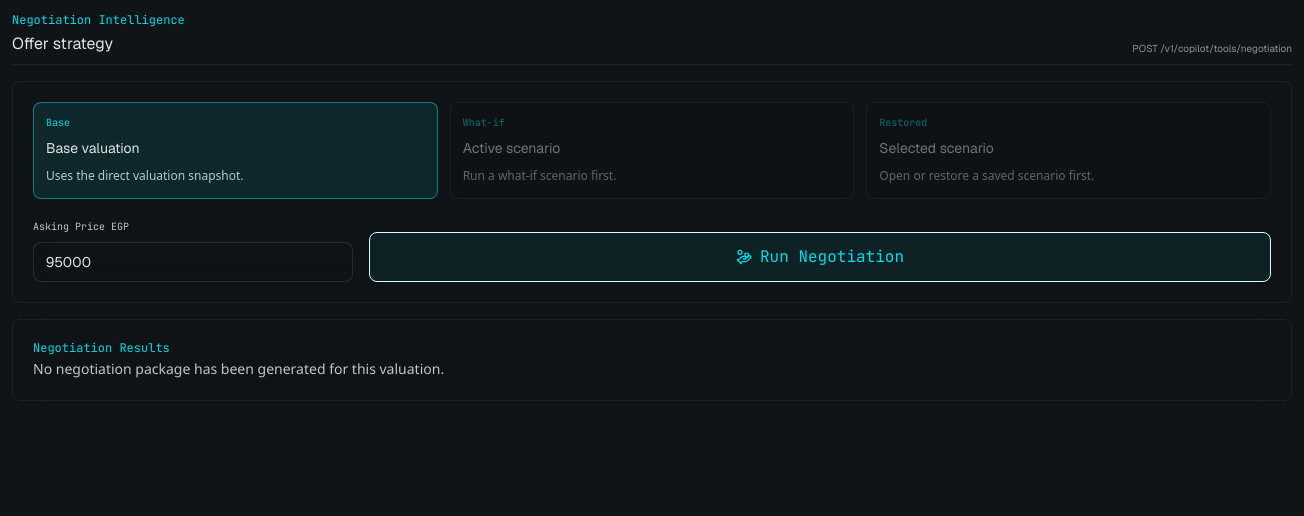
Test case: NegotiationIntelligencePanel › renders service errors
Click the button "Run Negotiation".
click(820, 257)  # box [369,232,1271,282]
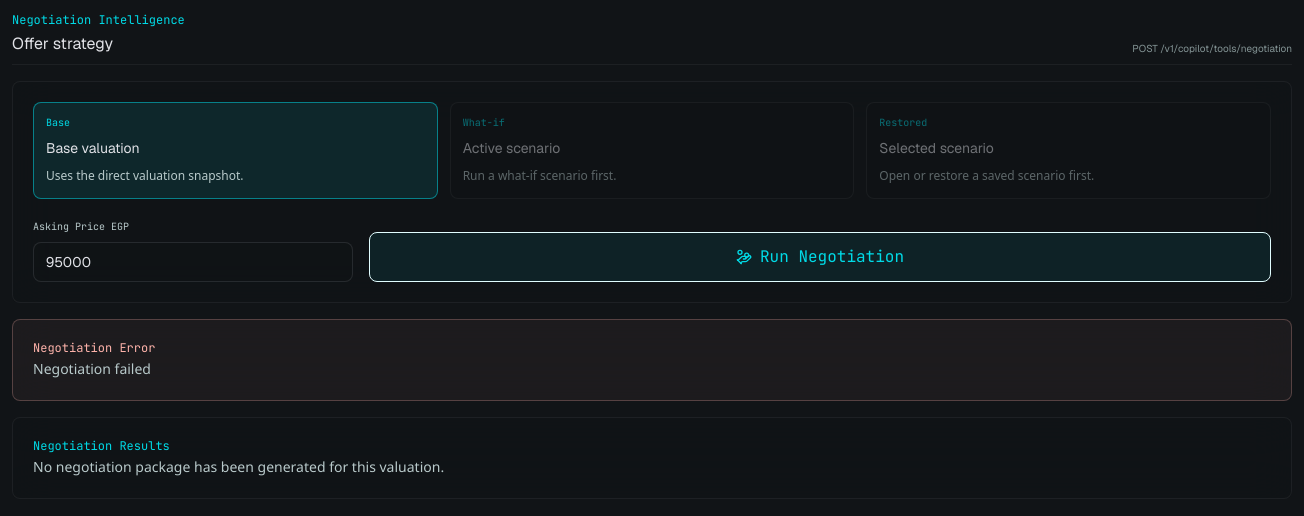
Result: the text "Negotiation failed" is shown at [33,360,151,379]
Result: the text "Negotiation Error" is shown at [33,340,155,356]
